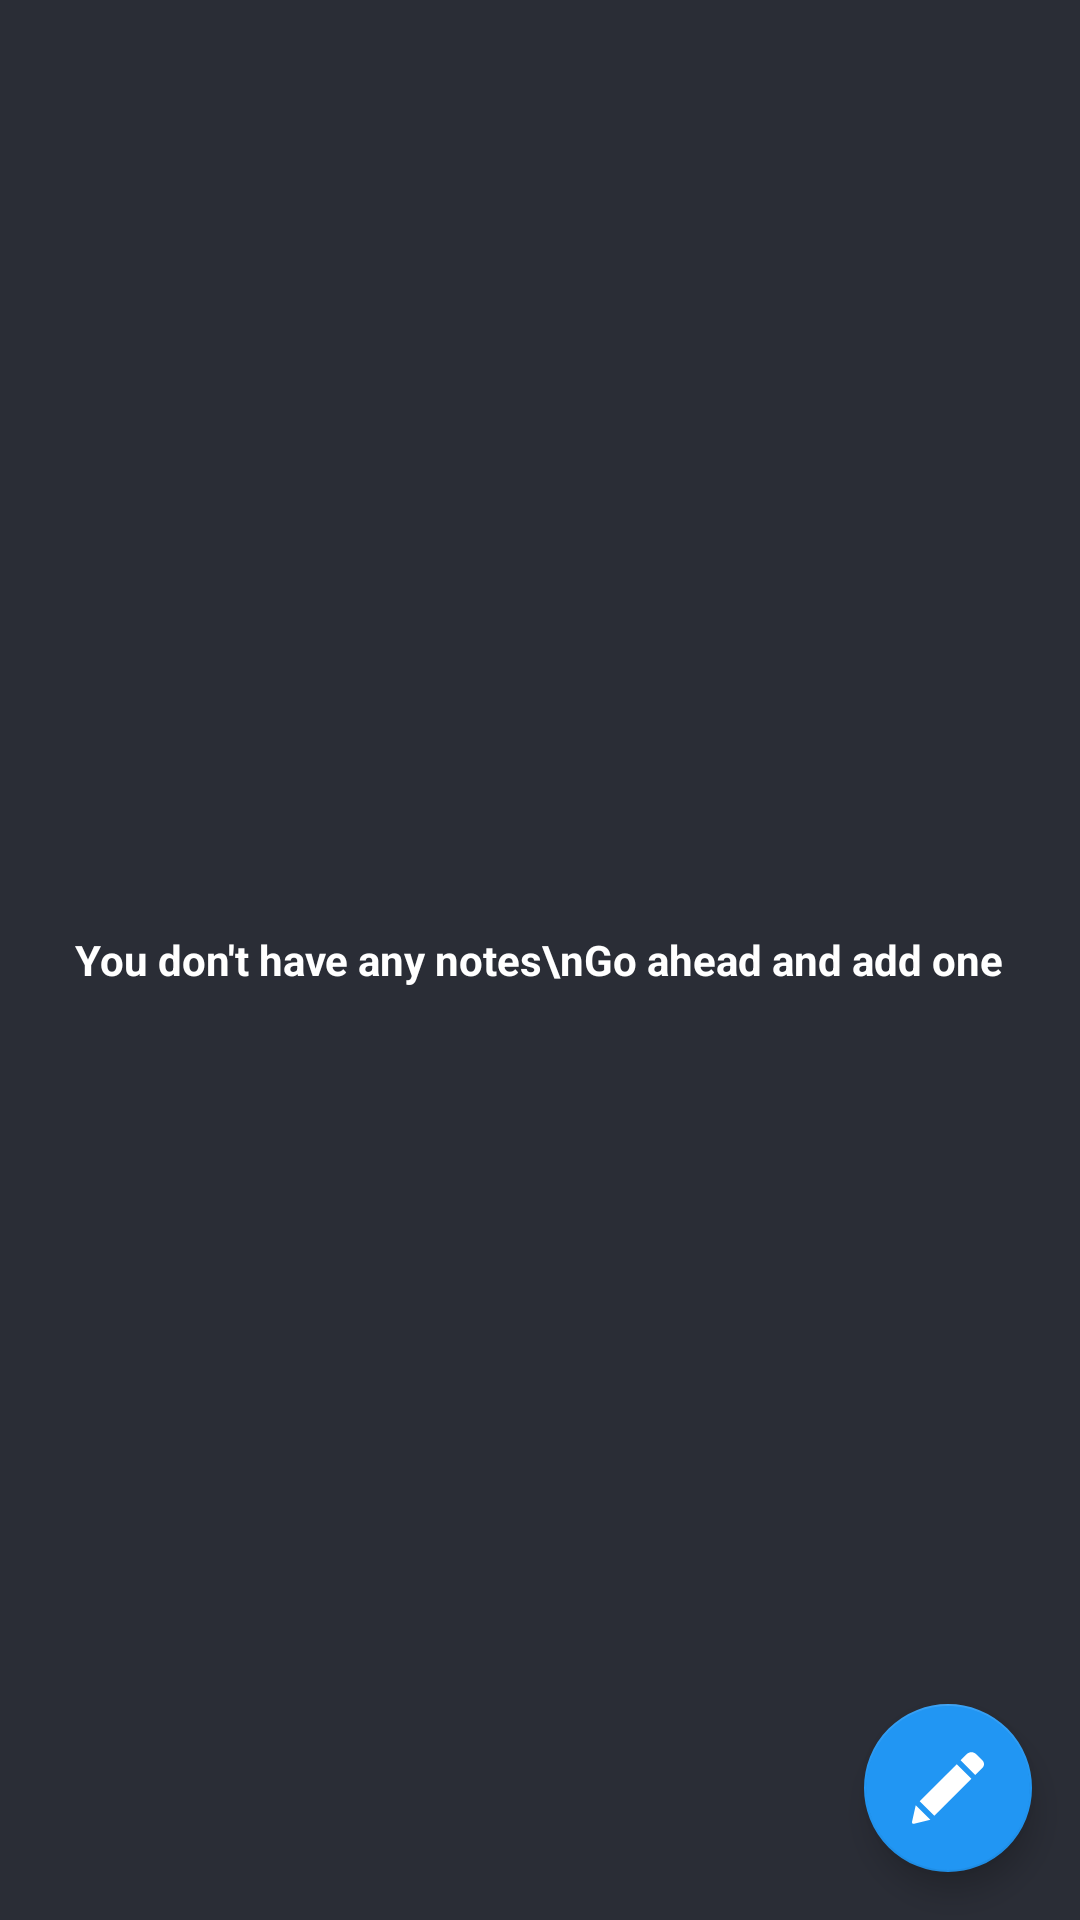

Where to tap for icons on this 1080*1920 app screen, as (x=x, y=y):
pencil: (x=948, y=1788)
